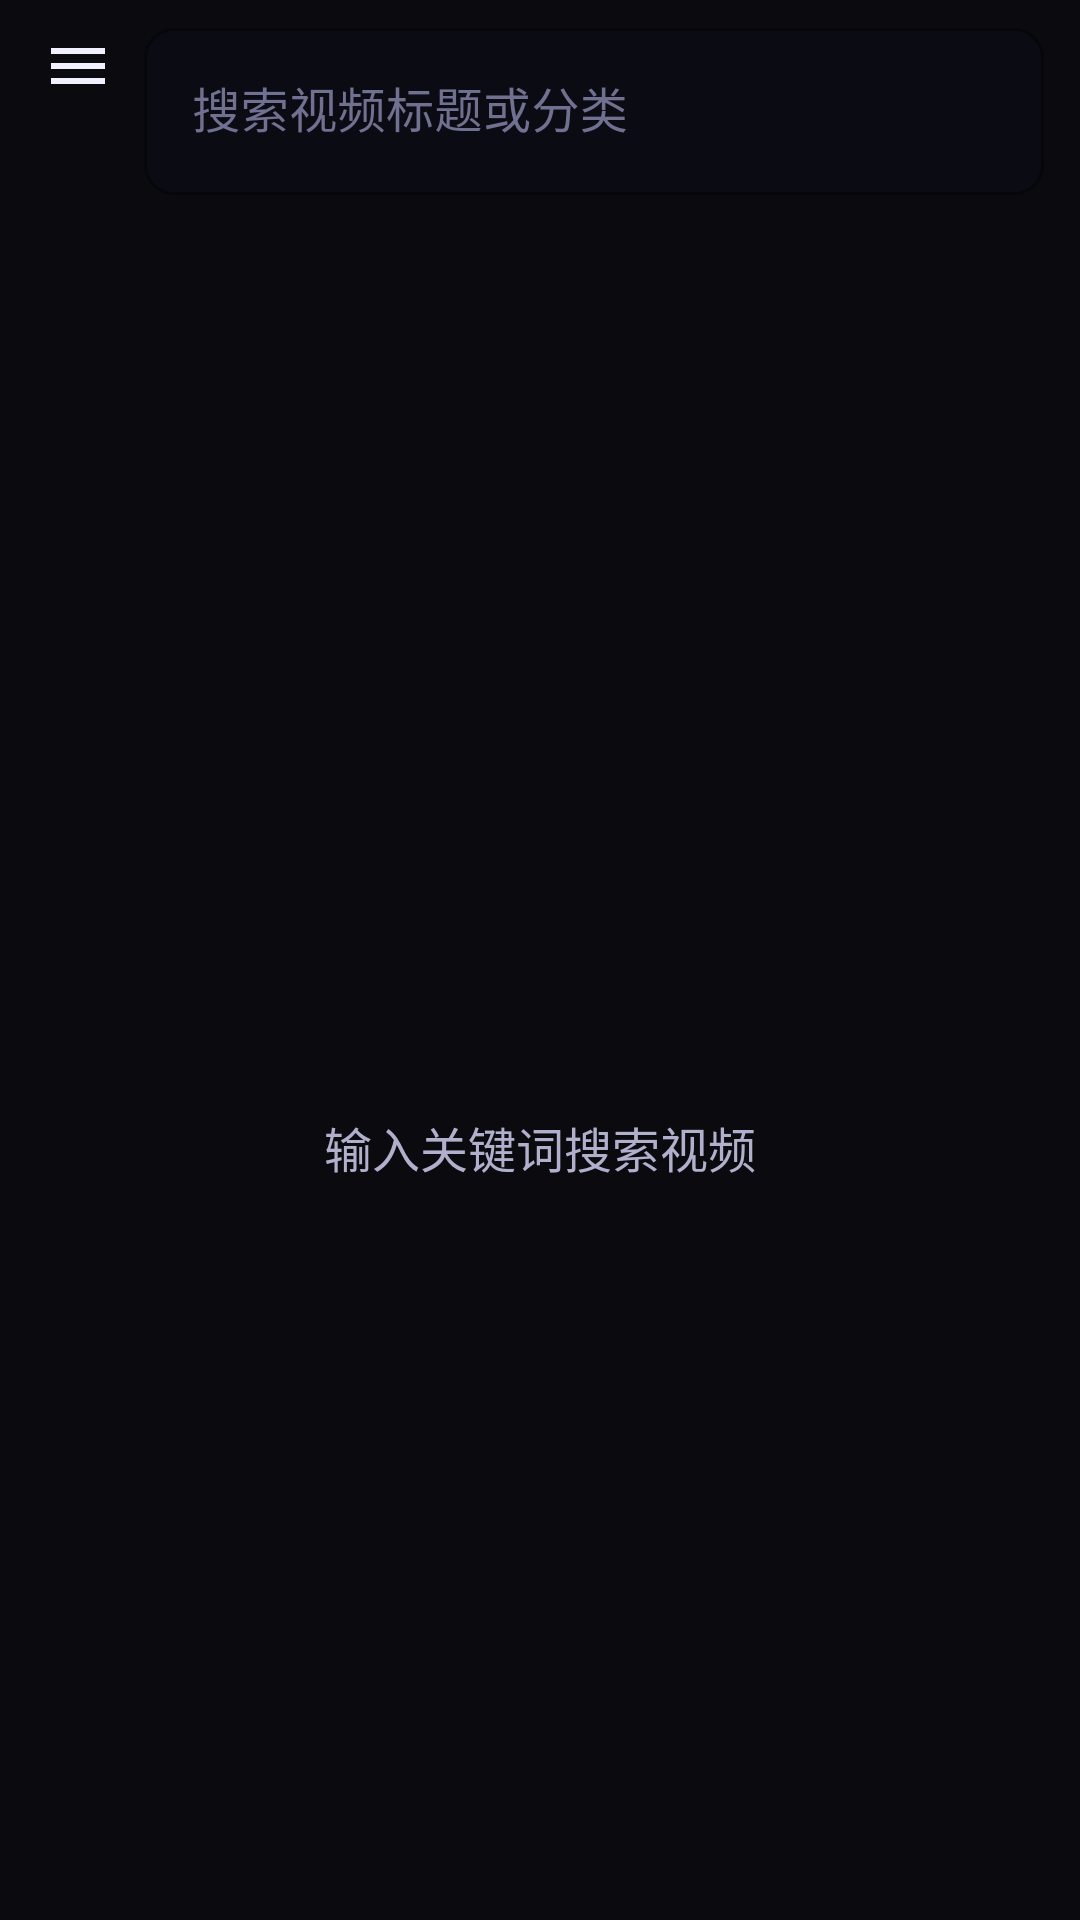

Locate icon controls on the screen. Image size 1080×1920, boxes as [left=x1, top=y1, right=x2, bottom=y2].
打开菜单: [left=51, top=48, right=105, bottom=84]
